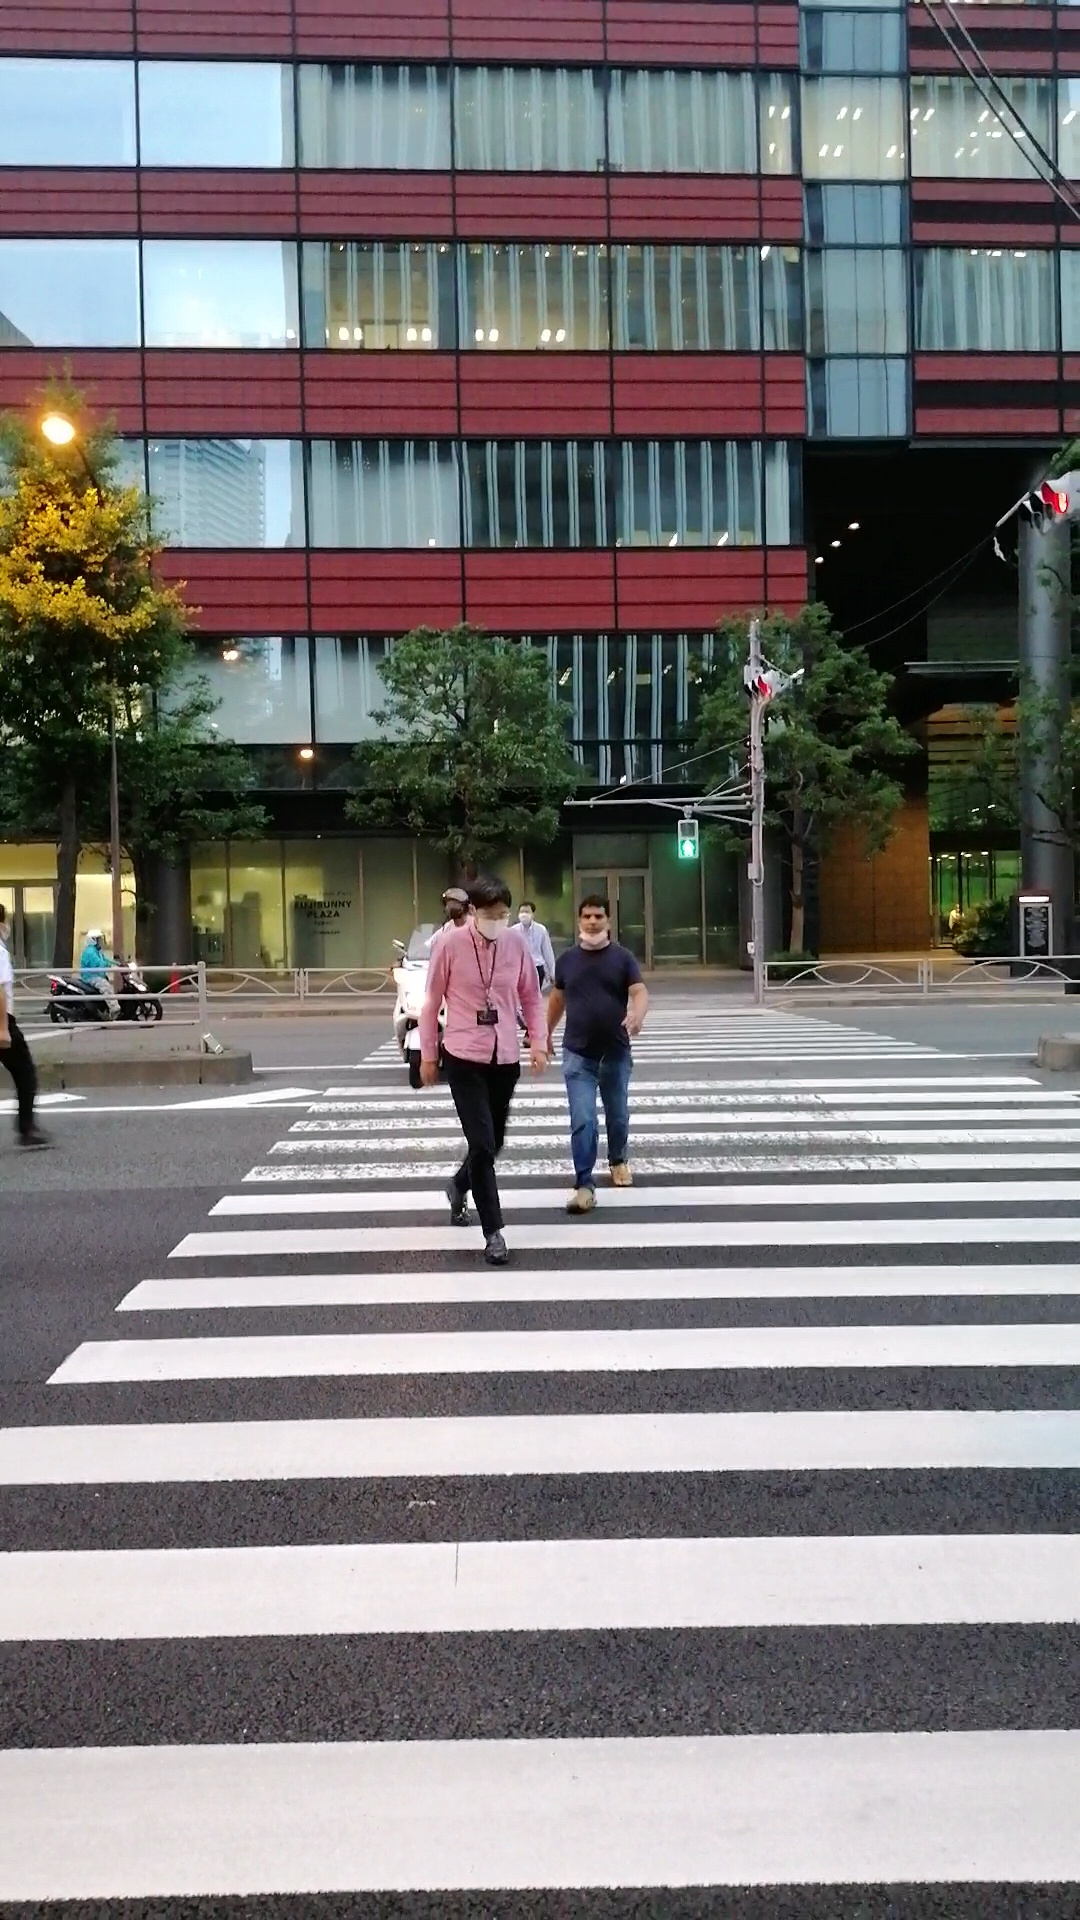green: (676, 818, 699, 858)
